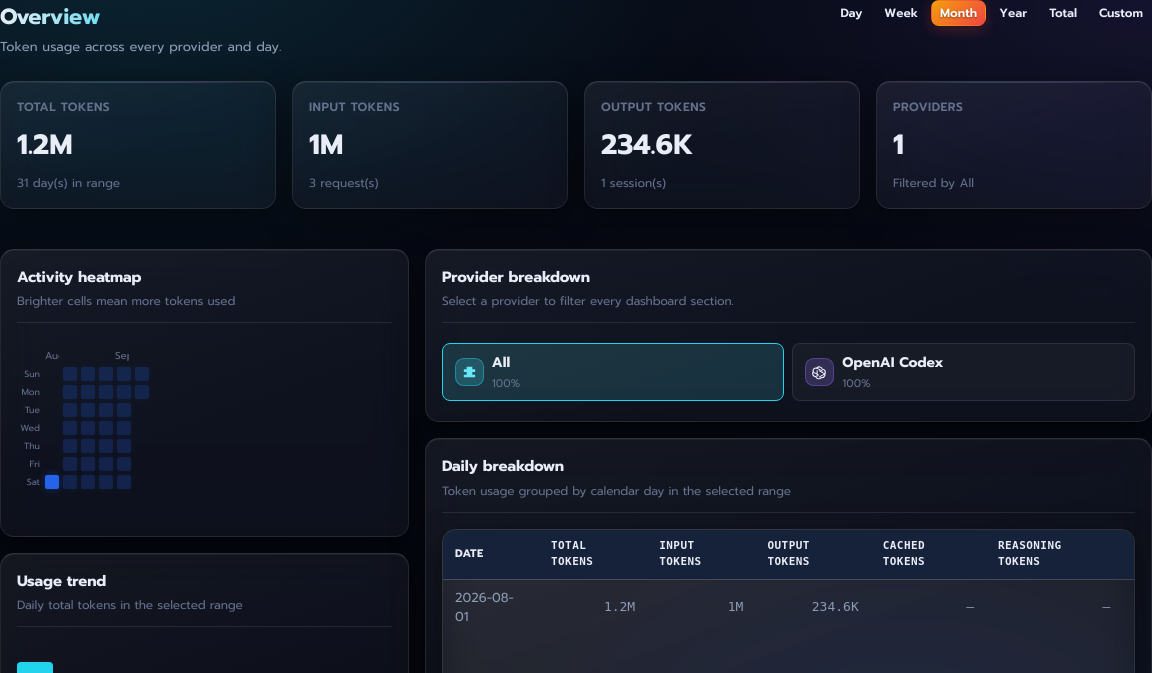
Test case: OverviewPage › provides visible themed controls for opening the day-month-year picker
This screenshot has width=1152, height=673.
Expected: the text "OpenAI Codex" is shown, [842,352,943,373]
What coordinates should you click on to do the following:
click the tab "Custom"
I would click on:
 (1121, 13)
Its box is [1090,0,1151,26].
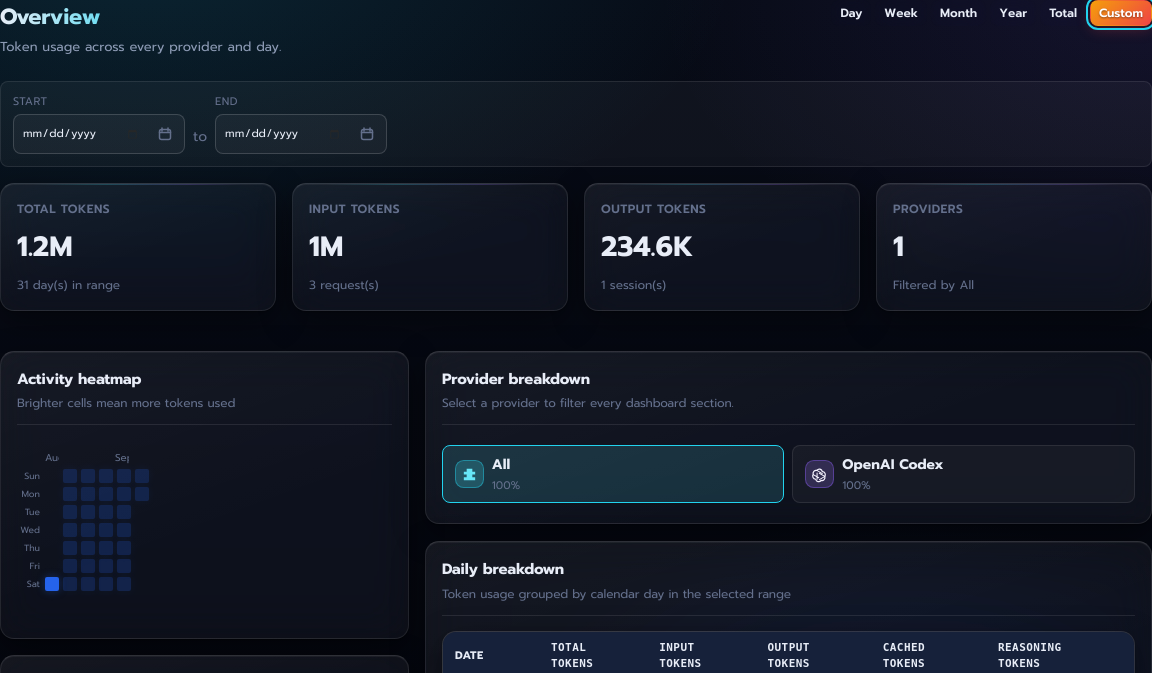
Expected: the number of elements with class "dashboard-date-control" is 2, [13,114,185,154]; [215,114,387,154]
Expected: the number of buttons with class "dashboard-date-picker-trigger" is 2, [150,119,180,149]; [352,119,382,149]
